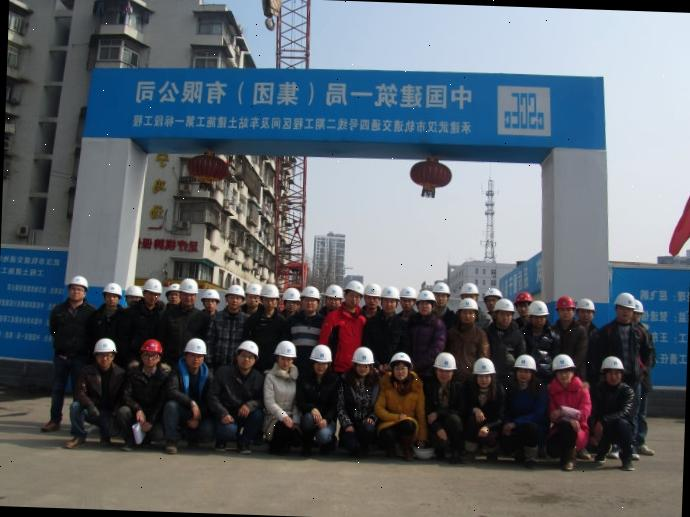helmet: (307, 342, 333, 364), (91, 336, 119, 356), (182, 335, 208, 356), (351, 346, 378, 366), (272, 338, 300, 357), (614, 288, 635, 311), (434, 350, 458, 370), (472, 356, 496, 376), (550, 354, 576, 372), (138, 338, 164, 356), (513, 354, 538, 372), (523, 299, 549, 316), (598, 355, 624, 372), (140, 274, 164, 292), (236, 338, 261, 354), (65, 272, 90, 288), (100, 278, 125, 294), (344, 280, 364, 300), (322, 282, 346, 298), (221, 283, 246, 298), (390, 351, 413, 367), (177, 276, 199, 292), (573, 295, 595, 311), (398, 284, 419, 300), (298, 283, 320, 298), (456, 295, 478, 310), (554, 294, 576, 309), (416, 286, 434, 304), (283, 285, 302, 302), (491, 296, 512, 311), (431, 279, 452, 294), (364, 281, 383, 297), (260, 282, 278, 298), (382, 282, 398, 300), (459, 280, 478, 294), (514, 289, 534, 302), (200, 286, 220, 299), (482, 285, 502, 298)
no_wear: (378, 375, 421, 430), (78, 362, 124, 412), (340, 374, 378, 430), (548, 376, 588, 428), (262, 366, 298, 422), (591, 380, 633, 428), (465, 382, 506, 428), (423, 378, 461, 424), (503, 382, 543, 422), (210, 312, 242, 354), (289, 314, 319, 345)
